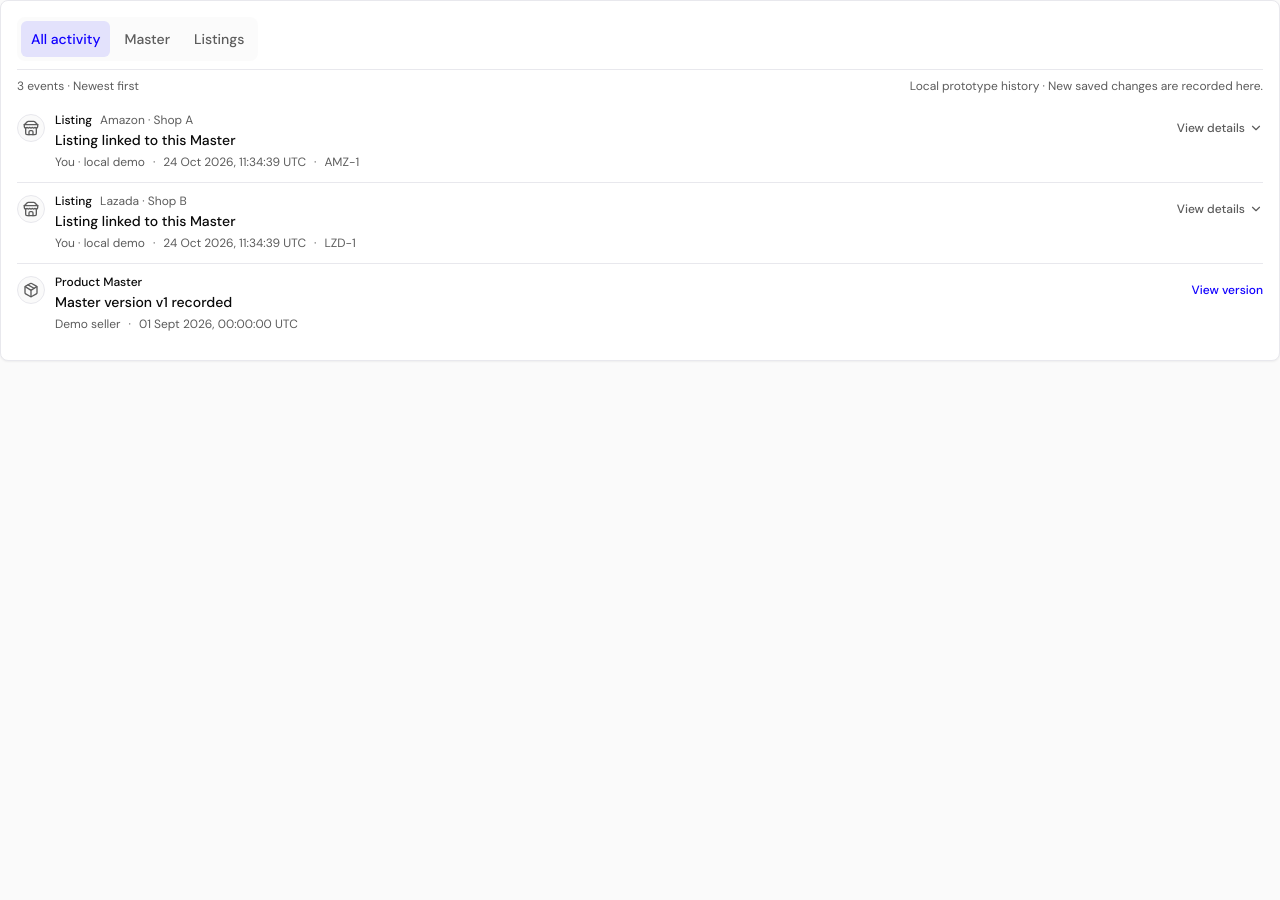
Test case: Unified product activity history › opens version metadata separately without restore or publication controls
The image size is (1280, 900).
Click the button "View version". click: (1227, 290)
box: [1192,274,1263,306]
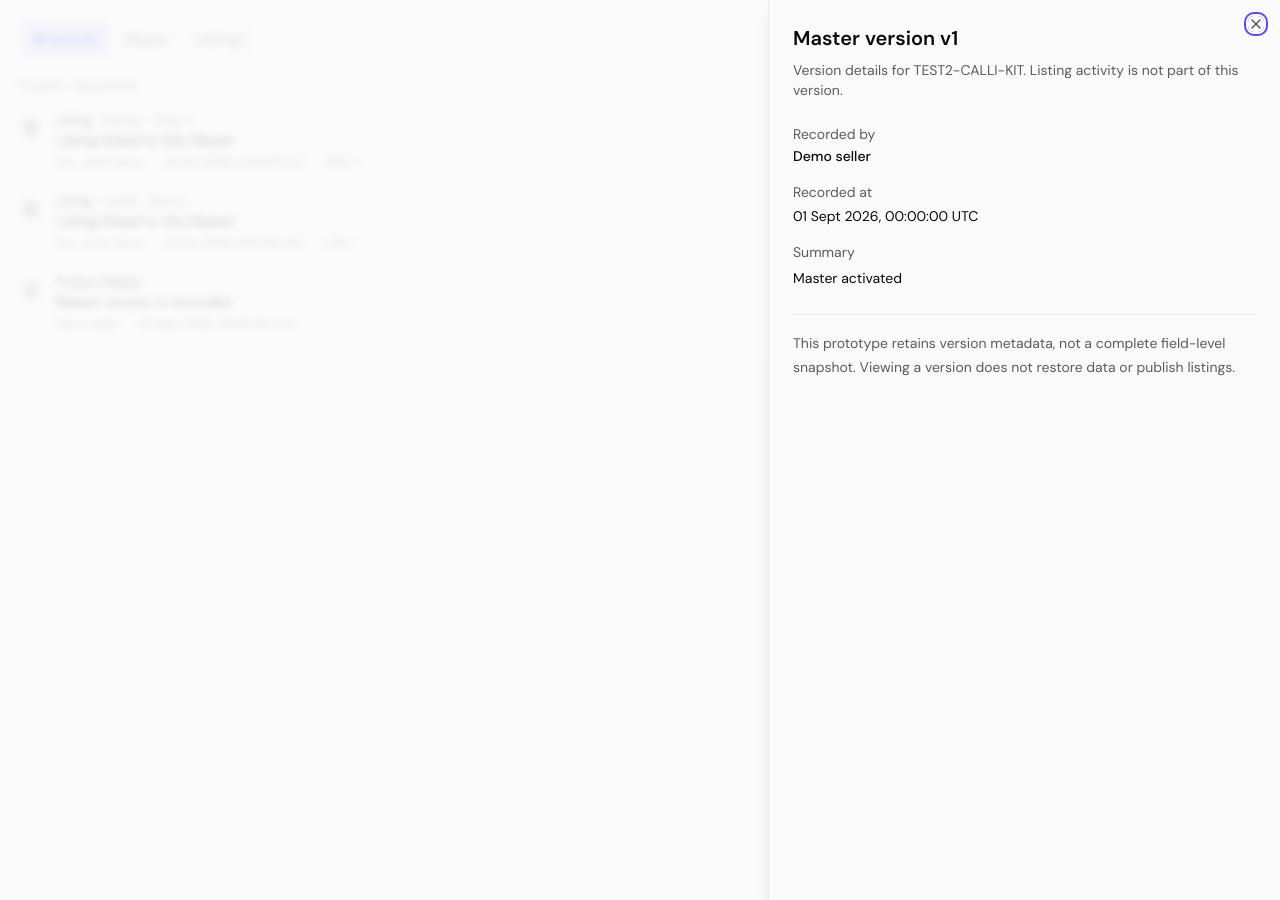
Now the heading "Master version v1" is shown, box [793,25,958,51]
Now the text "Master activated" is shown, box [793,269,902,287]
